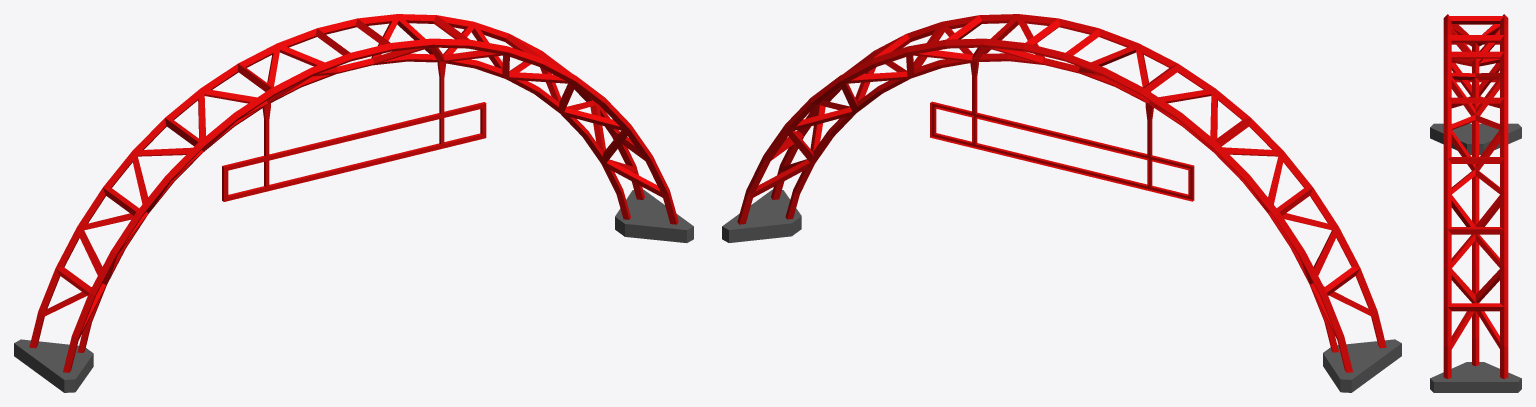
The model's file is ETC0510014.fbx.
3 renders of one model, left to right at view 1: azimuth 30°, elevation 25°; view 2: azimuth 150°, elevation 25°; view 3: azimuth 270°, elevation 25°, orthographic. The views are drawn at different scales.
Visible parts, largest first — view 1: smETC0510014; view 2: smETC0510014; view 3: smETC0510014.
Part boxes in pixels (x1,y1,x2,y2): smETC0510014: (14, 14, 693, 392); smETC0510014: (722, 14, 1401, 392); smETC0510014: (1430, 14, 1521, 392).
Bounding box in the file's own units: 1820 × 724 × 273.
Materials: 1 (1 with a texture image).
